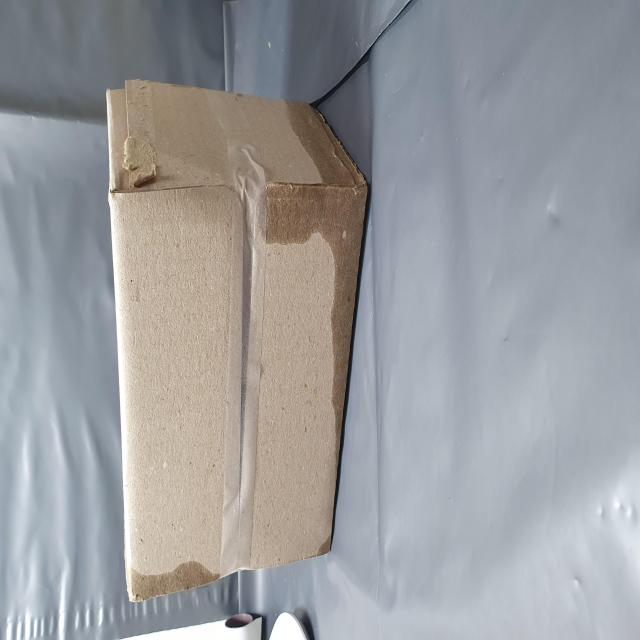wet: (126, 487, 311, 640)
